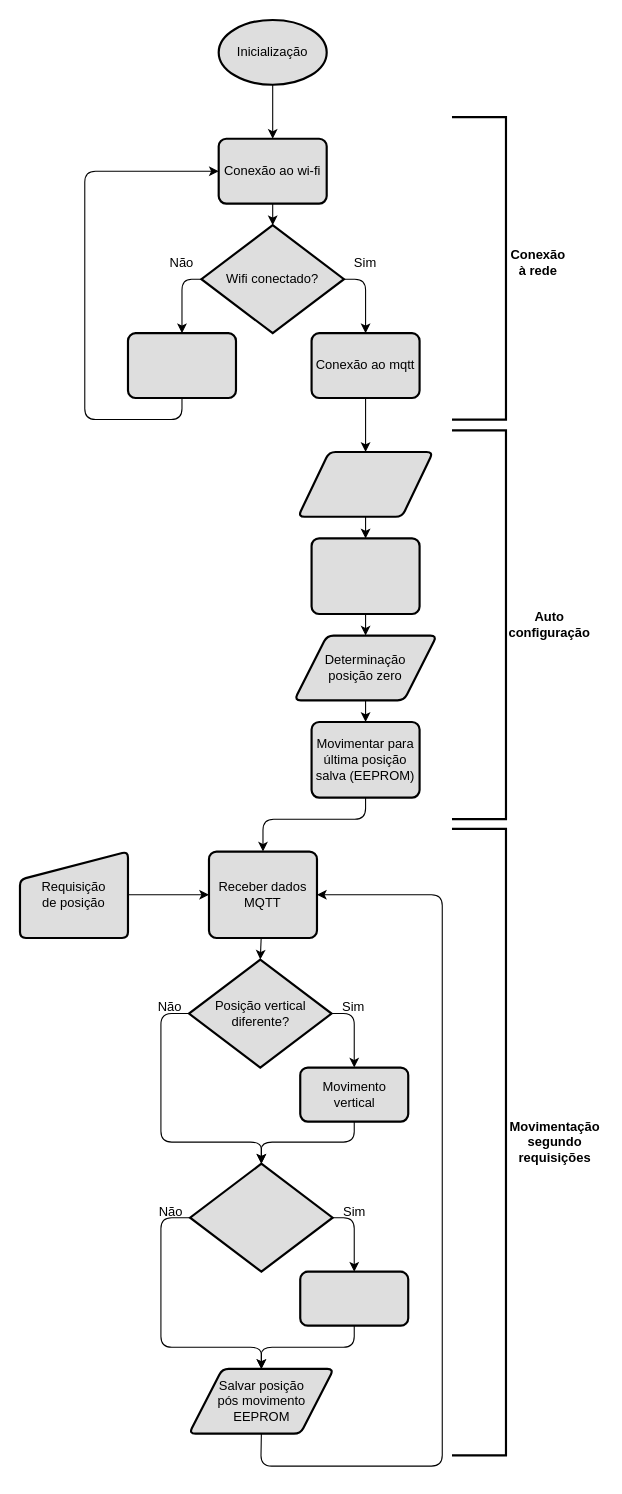
This 622x1494 diagram has some shape labels left out. The shapes that lost their labels are listed below. From the top down, each one's centre as x and y in pixels, then its label:
pixel 181 365: Led warning
pixel 365 483: Leitura Última posição EEPROM
pixel 365 576: Abrir persiana até leitura do reed switch
pixel 260 1217: Posição palhetas diferente?
pixel 354 1298: Movimento das palhetas
